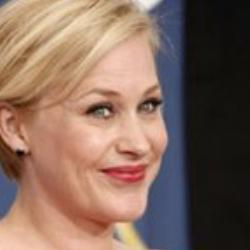face: (2, 2, 185, 226)
